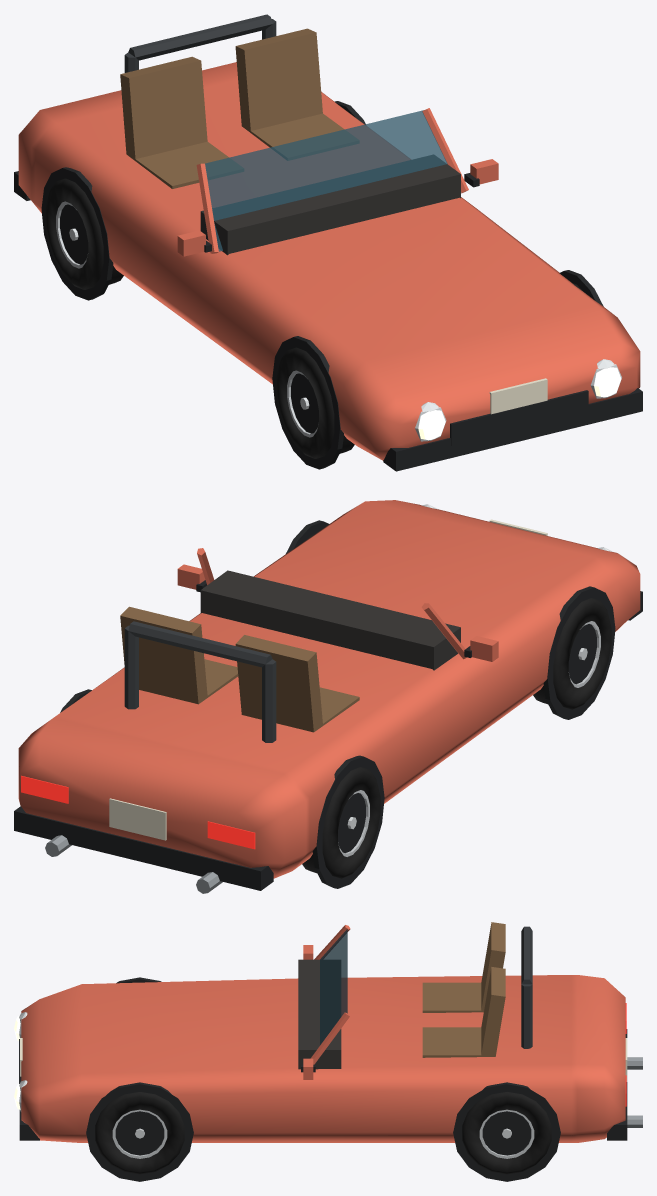
The model's file is willow-cabrio.glb.
The picture shows the model from 3 angles, top to bottom: view 1: azimuth 30°, elevation 25°; view 2: azimuth 150°, elevation 25°; view 3: azimuth 270°, elevation 25°; orthographic projection. The views are drawn at different scales.
Parts seen in each view (by area): view 1: body, wheel_RR, wheel_FR, plate_F, headlight_R, headlight_L; view 2: body, wheel_RR, wheel_FR, plate_R, taillight_R, taillight_L; view 3: body, wheel_RL, wheel_FL.
Part boxes in pixels (x1,y1,x2,y2): body: (14,14,642,471); wheel_RR: (45,178,123,289); wheel_FR: (276,347,354,458); plate_F: (489,378,547,414); headlight_R: (415,402,446,441); headlight_L: (590,359,621,398); body: (14,500,642,890); wheel_RR: (302,767,380,878); wheel_FR: (533,598,611,709); plate_R: (109,798,166,840); taillight_R: (207,821,255,849); taillight_L: (21,775,68,803); body: (19,922,627,1181); wheel_RL: (462,1092,551,1174); wheel_FL: (95,1092,184,1174).
Size of the model in its own units: 2.01 by 1.34 by 4.37.
